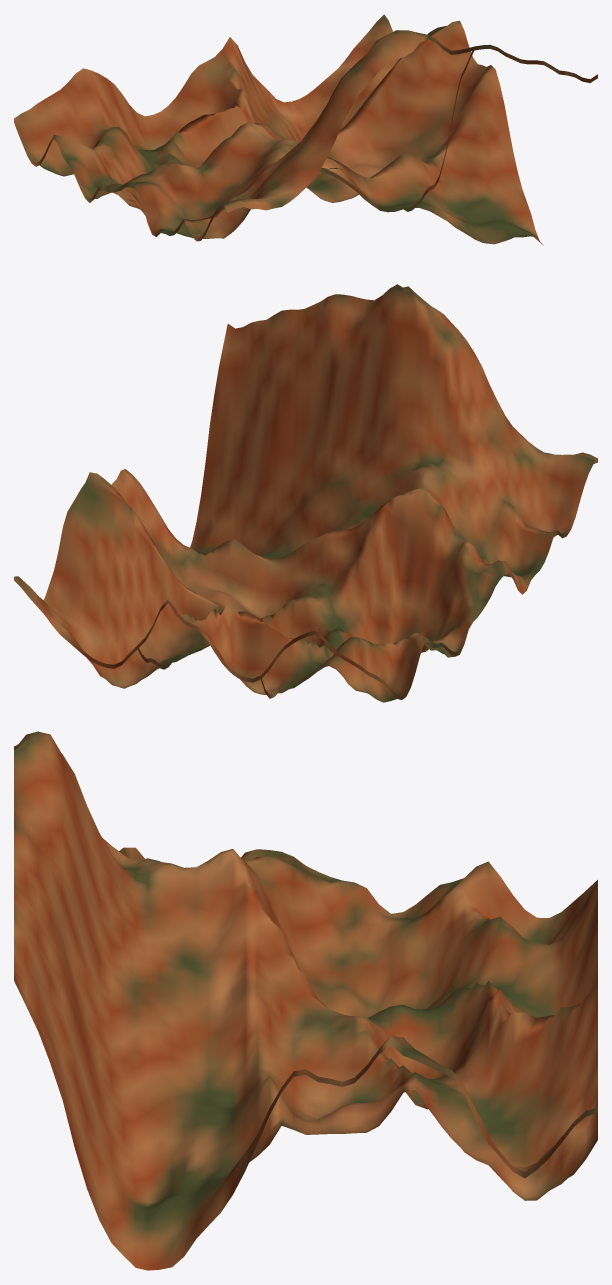
File: terrain-069.glb
The picture shows the model from 3 angles, top to bottom: view 1: azimuth 30°, elevation 25°; view 2: azimuth 150°, elevation 25°; view 3: azimuth 270°, elevation 25°; orthographic projection. The views are drawn at different scales.
Visible parts, largest first — view 1: terrain-069; view 2: terrain-069; view 3: terrain-069.
Part boxes in pixels (box(x1,y1,x2,y2)): terrain-069: box(14, 14, 597, 245); terrain-069: box(14, 284, 597, 702); terrain-069: box(14, 731, 597, 1270).
Size of the model in its own units: 384 by 299 by 384.
